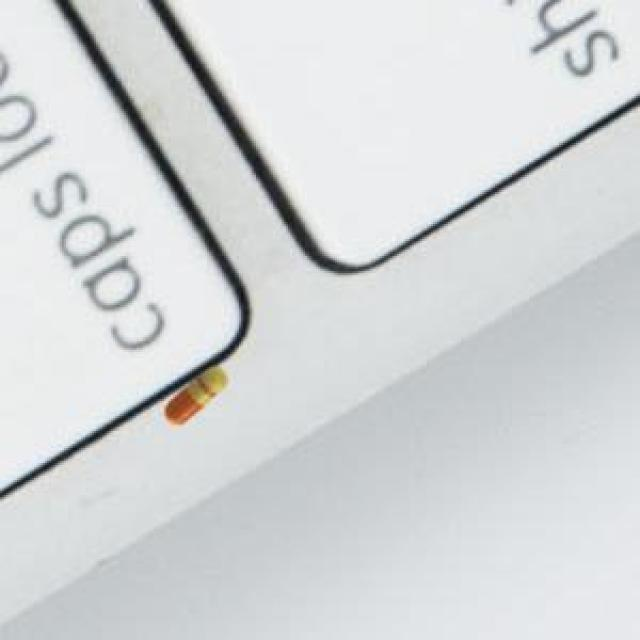Alaxan: (152, 358, 234, 441)
